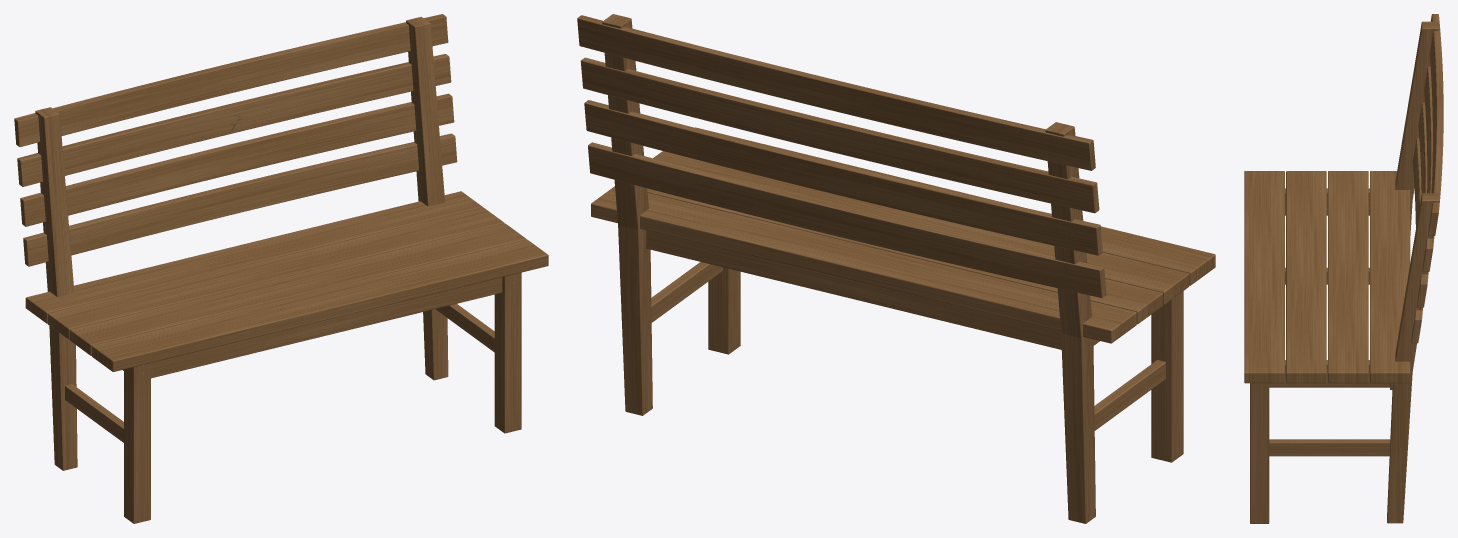
The model's file is bench.glb.
The picture shows the model from 3 angles, left to right: view 1: azimuth 30°, elevation 25°; view 2: azimuth 150°, elevation 25°; view 3: azimuth 270°, elevation 25°; orthographic projection. The views are drawn at different scales.
Parts seen in each view (by area): view 1: cottage_bench_static; view 2: cottage_bench_static; view 3: cottage_bench_static.
Part boxes in pixels (x1,y1,x2,y2): cottage_bench_static: (14, 14, 548, 523); cottage_bench_static: (577, 14, 1215, 523); cottage_bench_static: (1244, 14, 1443, 523).
Size of the model in its own units: 1.2 by 0.895 by 0.5003.
3 materials, 1 textured.
